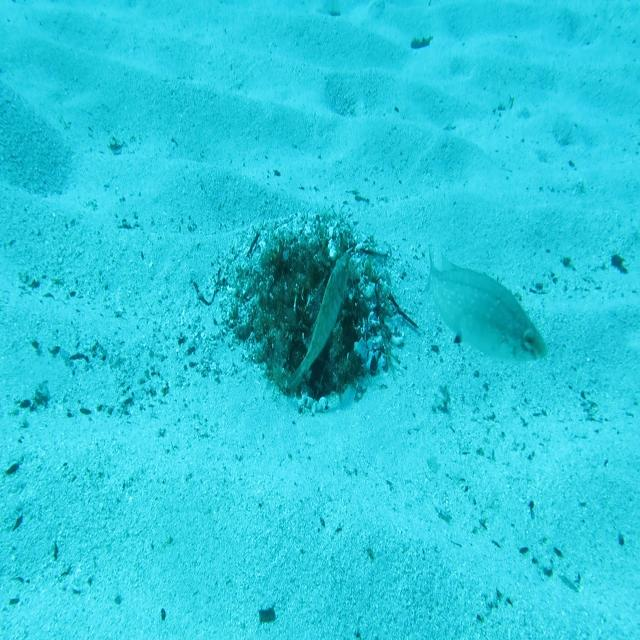FAN: (285, 249, 351, 397)
core_nest: (285, 254, 324, 288)
female: (422, 240, 551, 373)
nest: (218, 196, 416, 428)
vegetation: (610, 252, 630, 281), (409, 30, 435, 50), (256, 608, 276, 624)
